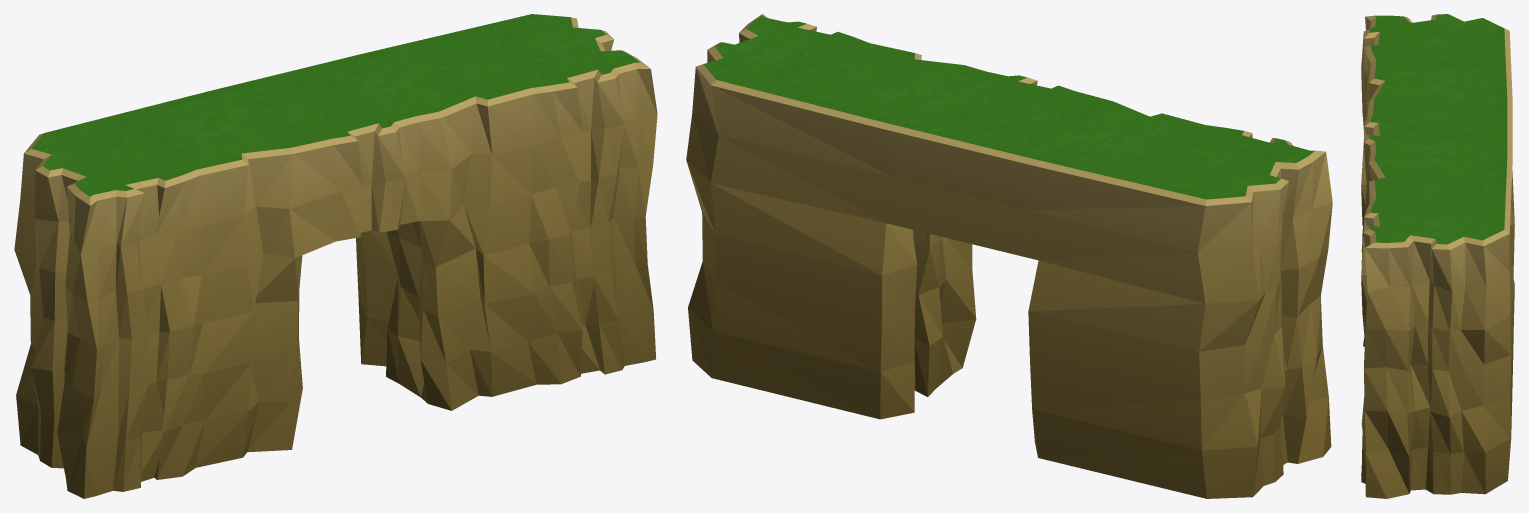
Rendered from OpenClif.FBX.
The picture shows the model from 3 angles, left to right: view 1: azimuth 30°, elevation 25°; view 2: azimuth 150°, elevation 25°; view 3: azimuth 270°, elevation 25°; orthographic projection. The views are drawn at different scales.
Parts seen in each view (by area): view 1: endGate; view 2: endGate; view 3: endGate.
Part boxes in pixels (left/top/right/bottom): endGate: left=14, top=14, right=657, bottom=498; endGate: left=686, top=14, right=1332, bottom=498; endGate: left=1361, top=14, right=1514, bottom=498.
Size of the model in its own units: 559 by 272 by 152.
